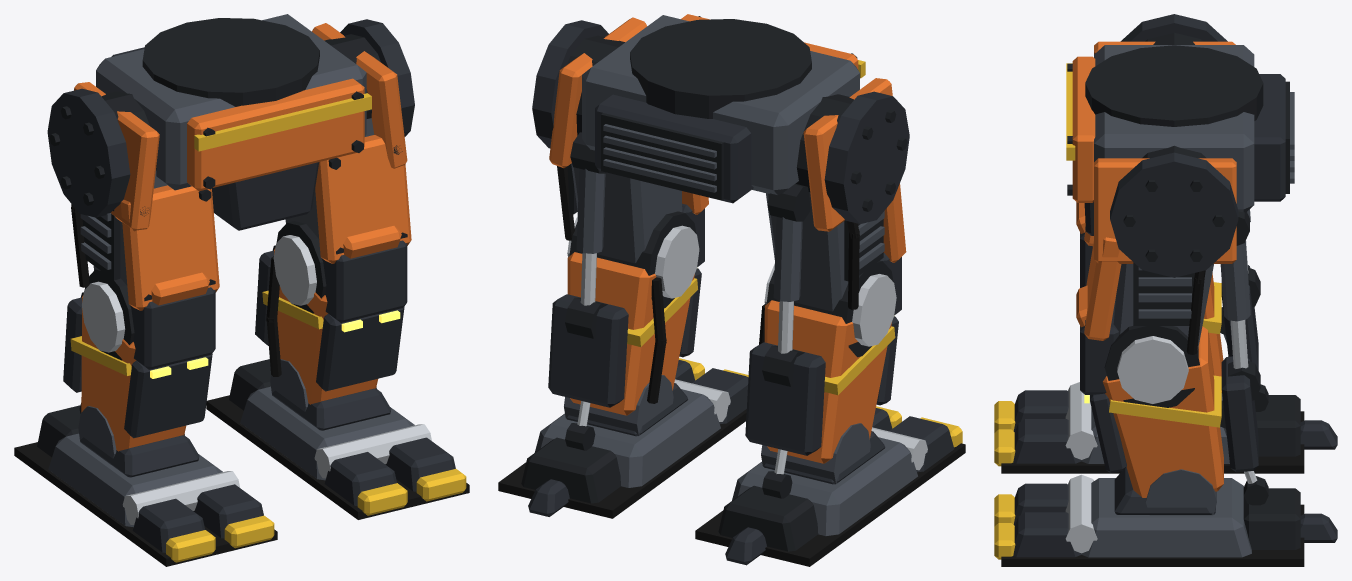
The model's file is legs_biped_mk1.glb.
3 views of the same model, side by side, from view 1: azimuth 30°, elevation 25°; view 2: azimuth 150°, elevation 25°; view 3: azimuth 270°, elevation 25° (orthographic). The views are drawn at different scales.
Visible parts, largest first — view 1: waist_bearing, armor_pelvis, pelvis, armor_thigh_R, armor_thigh_L, hip_servo_R, foot_L, foot_R, armor_kneepad_L, armor_kneepad_R, armor_shin_R, armor_shin_L (+43 smaller); view 2: waist_bearing, pelvis, hip_servo_R, shin_R, shin_L, armor_calf_L, armor_calf_R, foot_L, foot_R, thigh_L, pelvis_rear, heel_L (+46 smaller); view 3: waist_bearing, hip_servo_L, foot_L, shin_L, pelvis, knee_rings_L, pelvis_rear, sole_L, armor_skirt_L, armor_calf_L, heel_L, armor_pelvis (+41 smaller).
Boxes of the visible parts, box(x1,y1,x2,y2) form: waist_bearing: box(142, 18, 319, 106); armor_pelvis: box(187, 78, 364, 191); pelvis: box(96, 14, 366, 190); armor_thigh_R: box(120, 185, 219, 310); armor_thigh_L: box(315, 135, 411, 263); hip_servo_R: box(47, 88, 130, 217); foot_L: box(240, 386, 414, 480); foot_R: box(48, 433, 222, 527); armor_kneepad_L: box(322, 240, 407, 322); armor_kneepad_R: box(130, 287, 215, 369); armor_shin_R: box(124, 353, 212, 438); armor_shin_L: box(316, 306, 404, 391); waist_bearing: box(630, 19, 811, 118); pelvis: box(582, 15, 859, 194); hip_servo_R: box(824, 91, 909, 223); shin_R: box(764, 300, 891, 463); shin_L: box(567, 252, 694, 415); armor_calf_L: box(548, 294, 628, 407); armor_calf_R: box(745, 342, 825, 455); foot_L: box(534, 389, 720, 487); foot_R: box(732, 437, 917, 535); thigh_L: box(571, 163, 682, 263); pelvis_rear: box(595, 94, 753, 203); heel_L: box(521, 437, 620, 503); waist_bearing: box(1085, 45, 1263, 126); hip_servo_L: box(1110, 152, 1238, 277); foot_L: box(1081, 478, 1251, 557); shin_L: box(1103, 326, 1223, 497); pelvis: box(1094, 45, 1254, 212); knee_rings_L: box(1117, 336, 1188, 403); pelvis_rear: box(1254, 74, 1285, 201); sole_L: box(1001, 504, 1304, 566); armor_skirt_L: box(1094, 158, 1236, 263); armor_calf_L: box(1221, 356, 1258, 472); heel_L: box(1243, 488, 1300, 549); armor_pelvis: box(1072, 56, 1095, 202).
Size of what is drawn, in the model's own units: 2.02 by 2.54 by 1.93.
